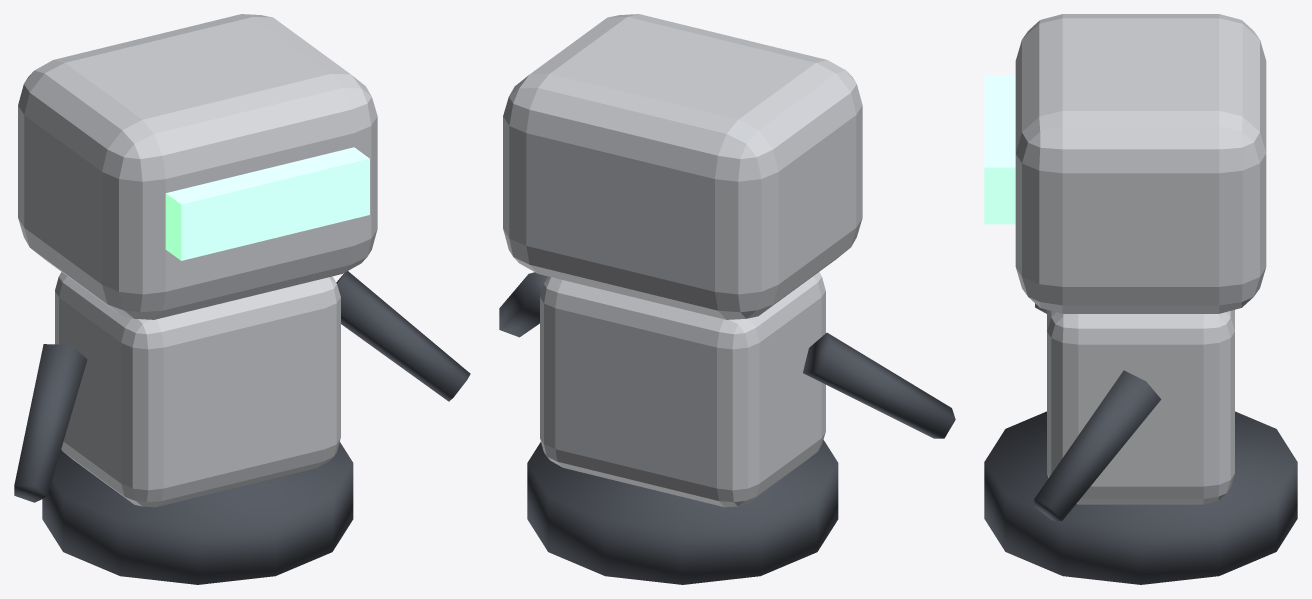
Rendered from minibot_desk_buddy.glb.
3 views of the same model, side by side, from view 1: azimuth 30°, elevation 25°; view 2: azimuth 150°, elevation 25°; view 3: azimuth 270°, elevation 25° (orthographic).
Visible parts, largest first — view 1: GD_minibot_desk_buddy__m1, GD_minibot_desk_buddy__m0, GD_minibot_desk_buddy__m2; view 2: GD_minibot_desk_buddy__m1, GD_minibot_desk_buddy__m0; view 3: GD_minibot_desk_buddy__m1, GD_minibot_desk_buddy__m0, GD_minibot_desk_buddy__m2.
Boxes of the visible parts, bbox=[...] form: GD_minibot_desk_buddy__m1: bbox=[18, 14, 377, 507]; GD_minibot_desk_buddy__m0: bbox=[14, 271, 470, 584]; GD_minibot_desk_buddy__m2: bbox=[165, 147, 369, 260]; GD_minibot_desk_buddy__m1: bbox=[503, 14, 862, 507]; GD_minibot_desk_buddy__m0: bbox=[499, 272, 955, 584]; GD_minibot_desk_buddy__m1: bbox=[1015, 14, 1266, 504]; GD_minibot_desk_buddy__m0: bbox=[984, 303, 1297, 584]; GD_minibot_desk_buddy__m2: bbox=[984, 75, 1015, 224].
Bounding box in the file's own units: 0.1695 × 0.16 × 0.1.
